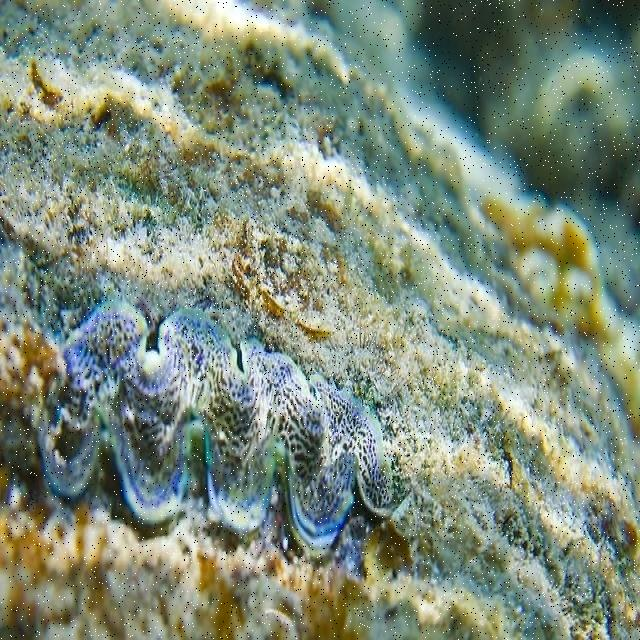reefs: (34, 298, 399, 558)
